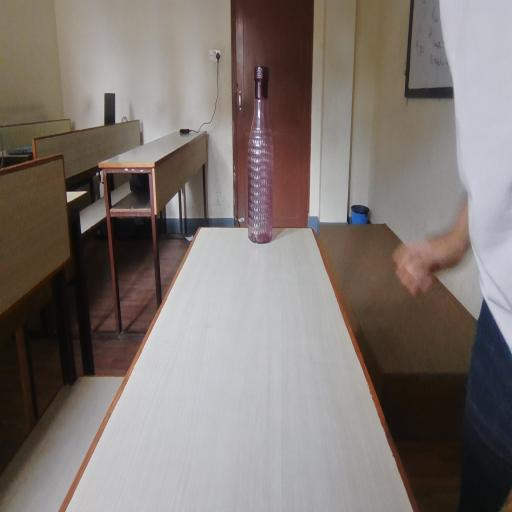Bottle: (250, 54, 292, 268)
